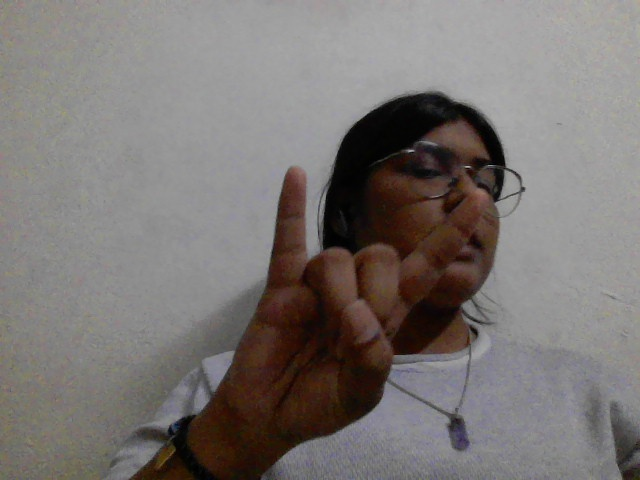I love you: (245, 158, 519, 445)
